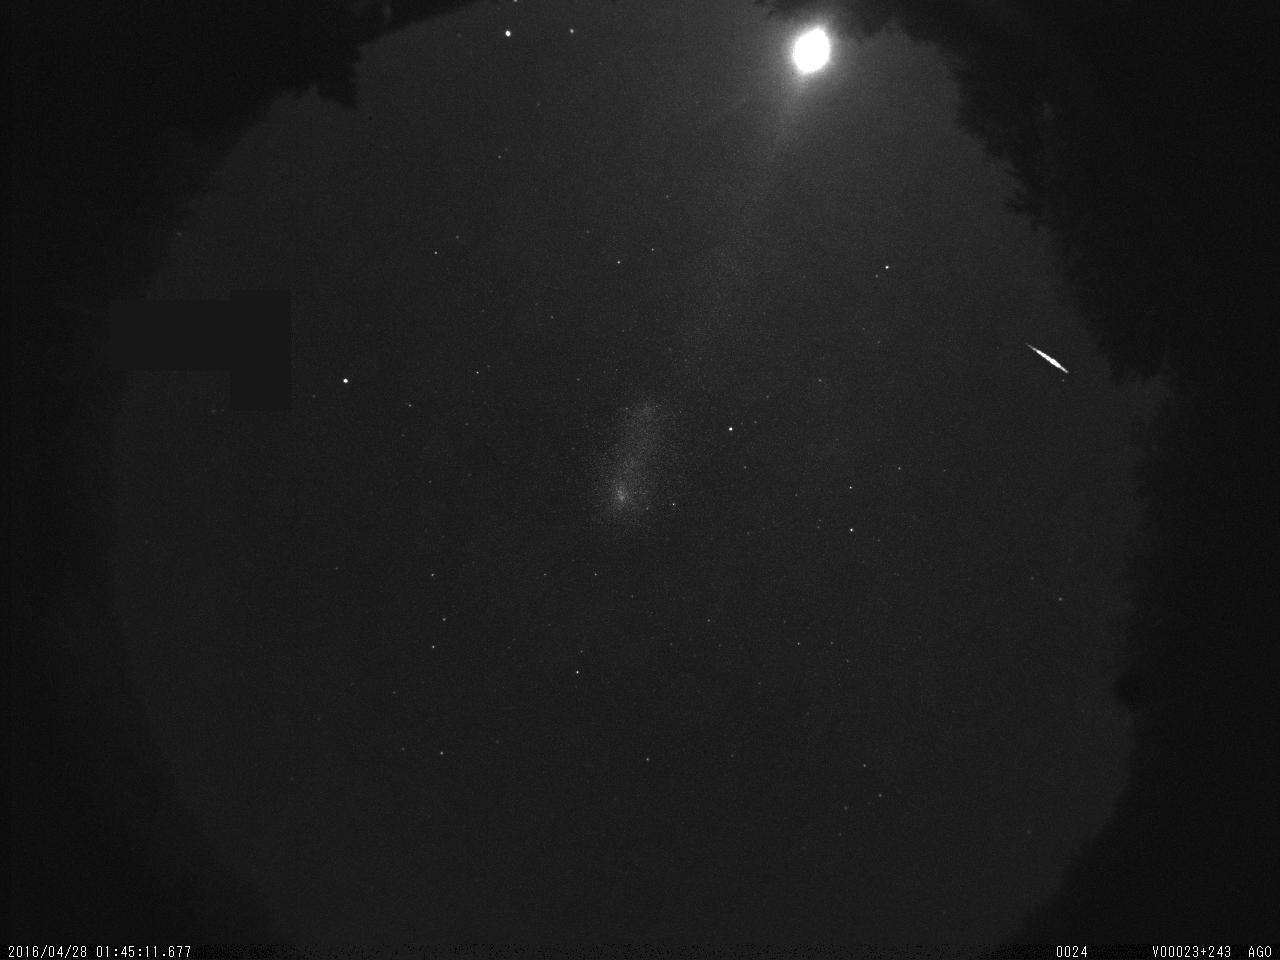meteor: (1009, 333, 1085, 385)
